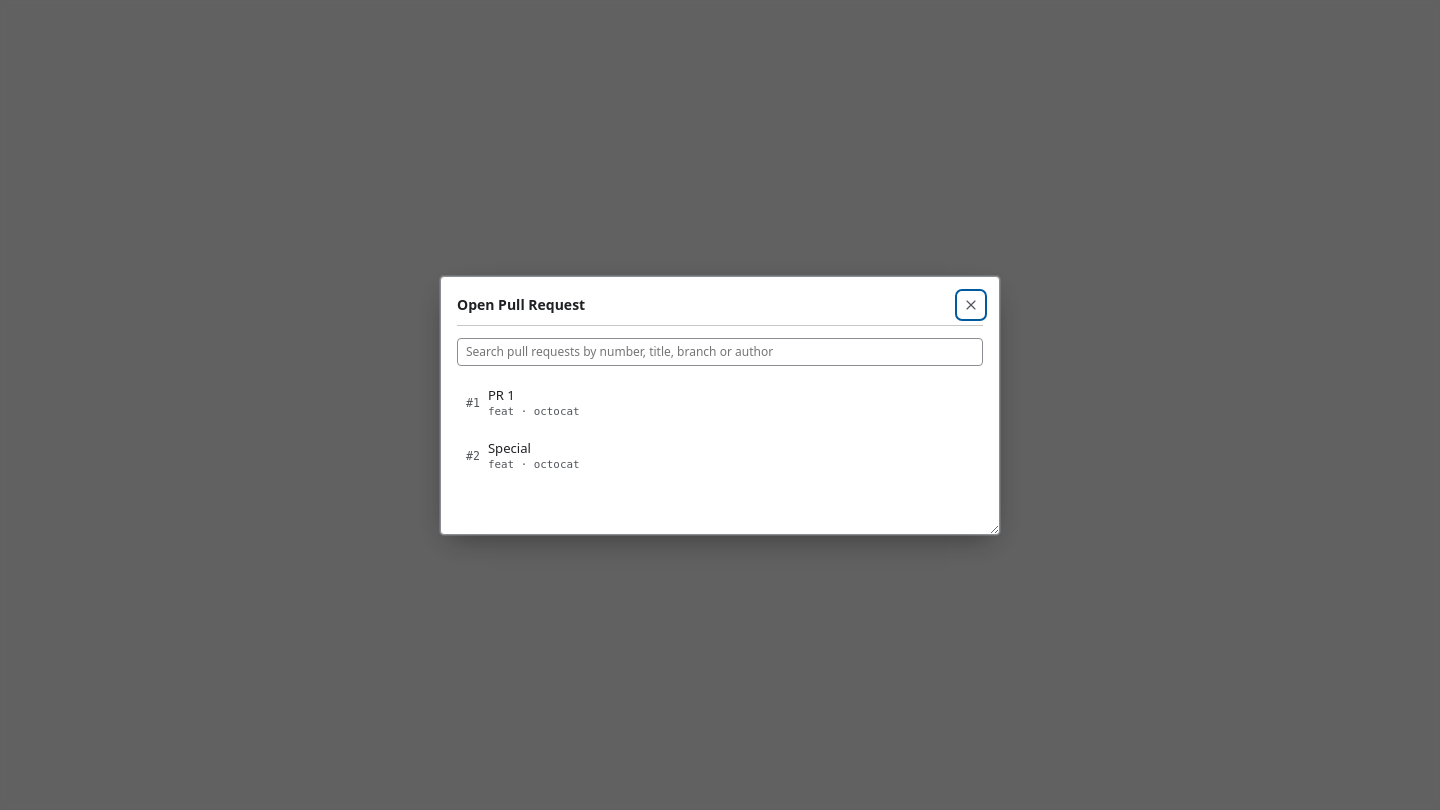
Test: GroupPrPicker › filters the list by search query
Expected: the button "#2 Special feat · octocat" is shown, [457,430,983,482]
Type "Special" into the field labelled "Search pull requests" at (720, 352), box [457,338,983,366]
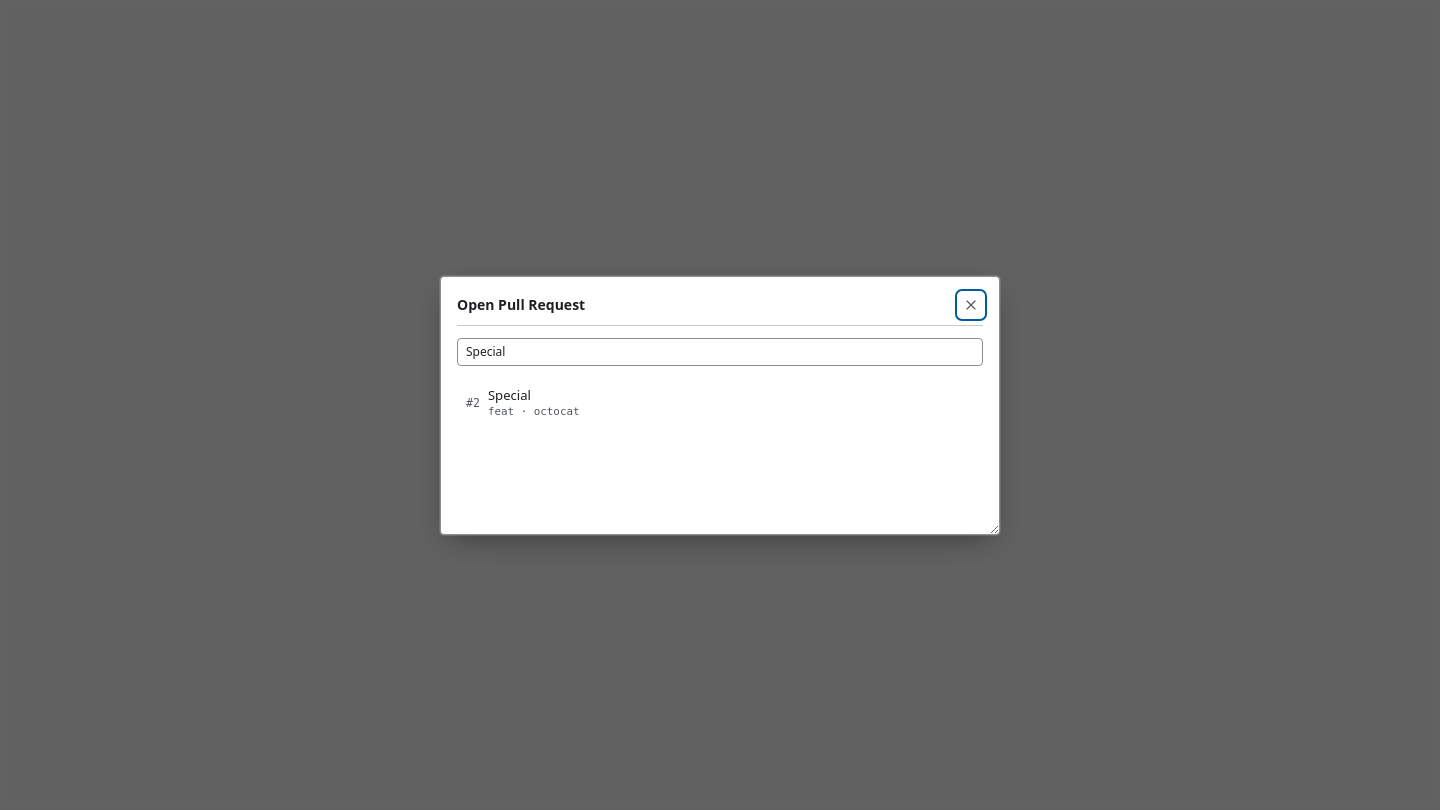
Expected: the button "#2 Special feat · octocat" is shown, [457,378,983,428]
Expected: the button "PR 1" is gone
